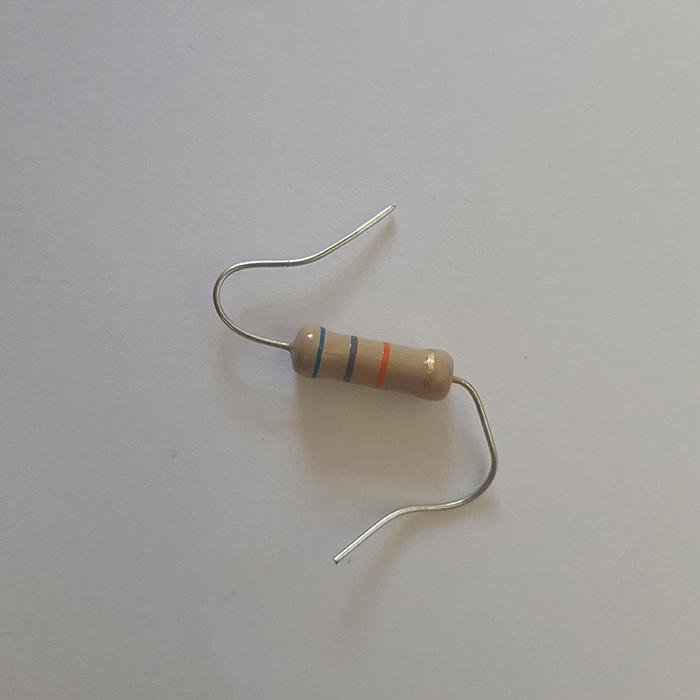resistor: (286, 323, 453, 400)
